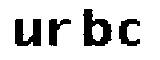b: (81, 5, 112, 47)
c: (118, 16, 144, 47)
r: (43, 16, 72, 49)
u: (10, 16, 42, 48)
